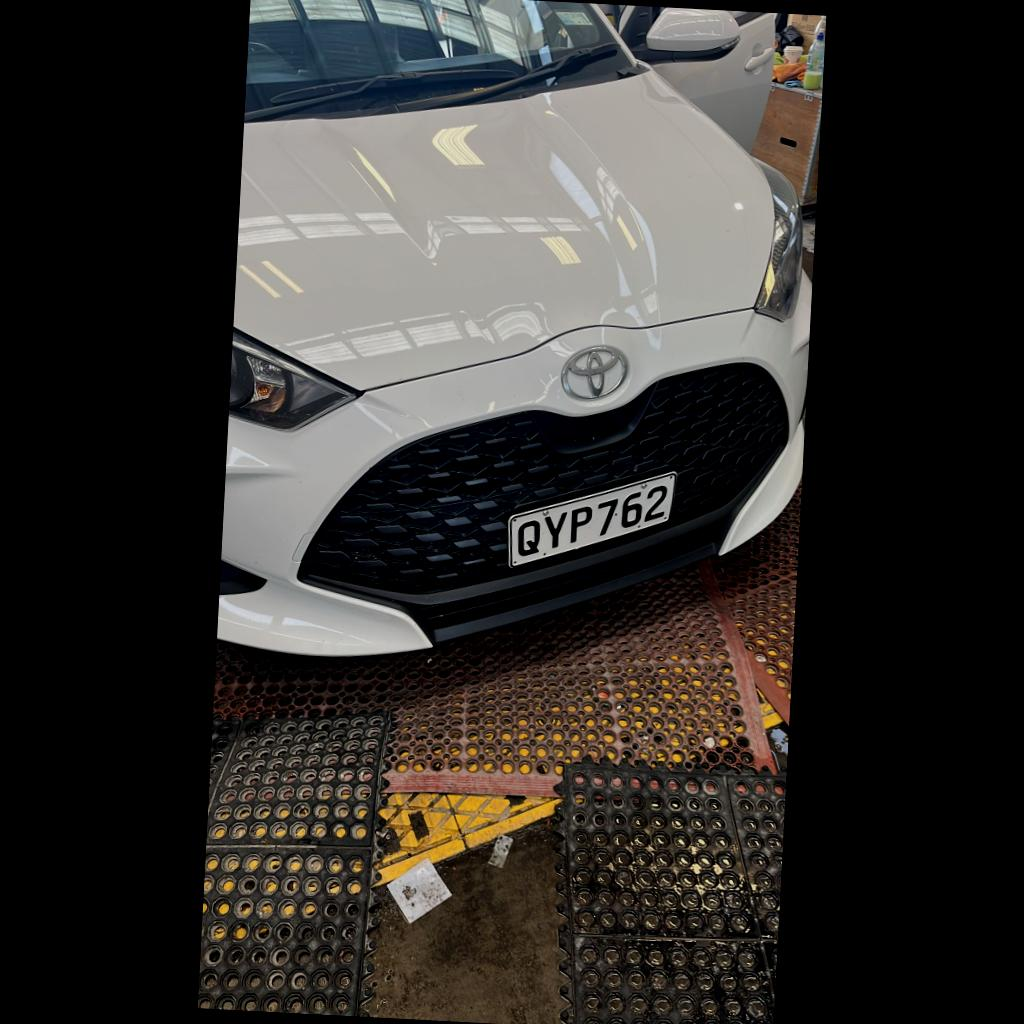Number-Plates: (497, 462, 684, 584)
